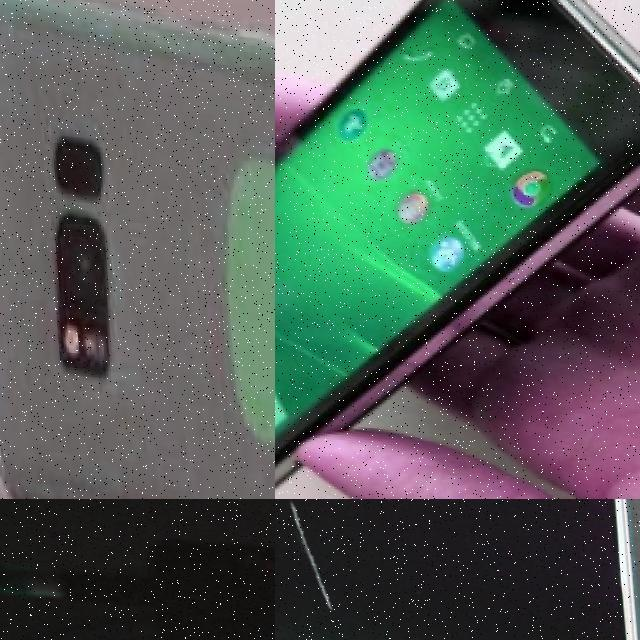scratch: (277, 499, 331, 603)
